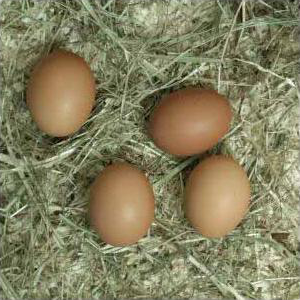egg: (27, 51, 95, 138), (148, 89, 232, 156), (89, 164, 156, 245), (186, 156, 250, 238)
